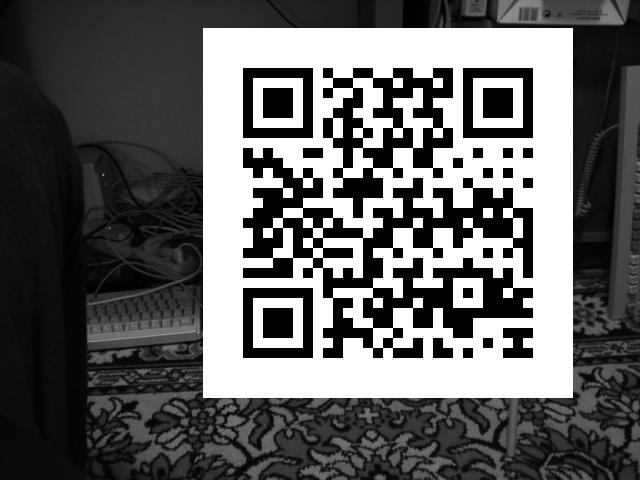qr_code: (202, 28, 573, 397)
